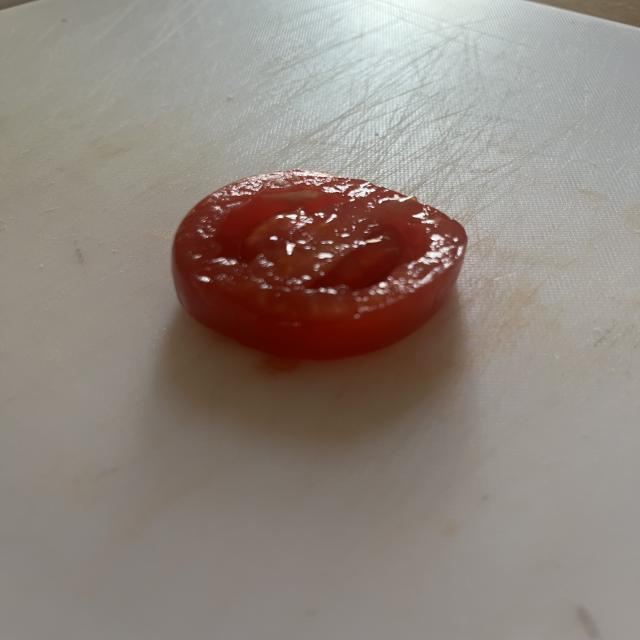sliced_tomato: (172, 171, 467, 359)
